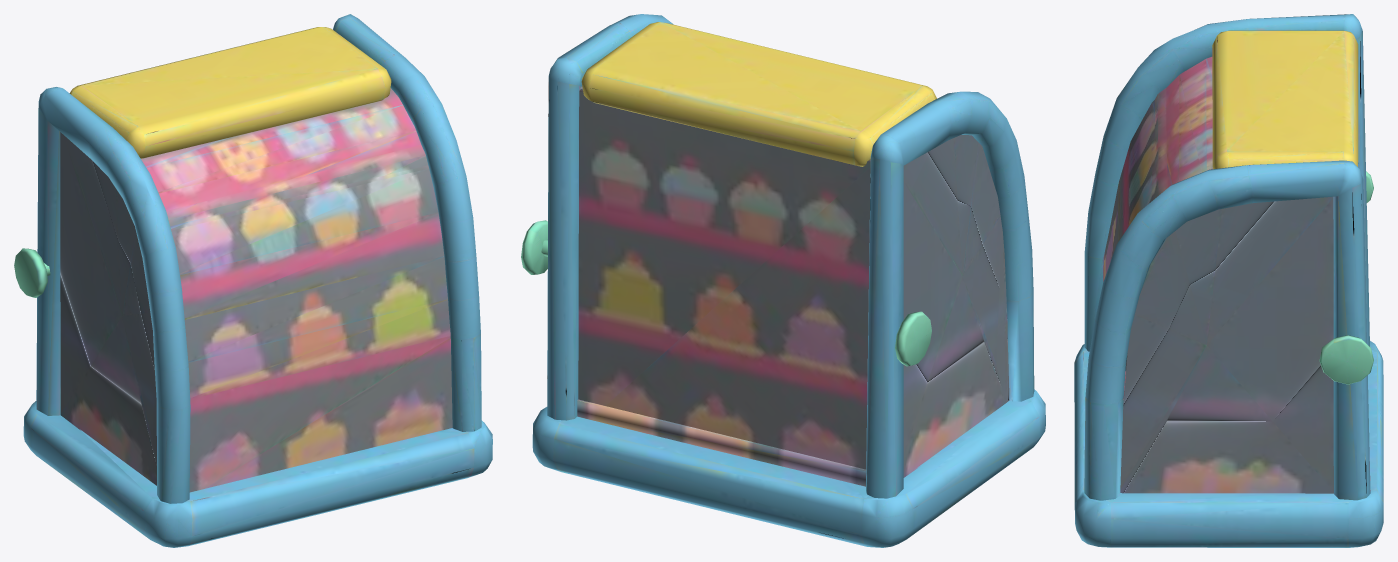
File: cake-display.glb
3 renders of one model, left to right at view 1: azimuth 30°, elevation 25°; view 2: azimuth 150°, elevation 25°; view 3: azimuth 270°, elevation 25°, orthographic. The views are drawn at different scales.
Visible parts, largest first — view 1: geometry_0; view 2: geometry_0; view 3: geometry_0.
Boxes of the visible parts, x1,y1,x2,y2 form: geometry_0: (14, 14, 492, 547); geometry_0: (521, 14, 1045, 547); geometry_0: (1074, 14, 1383, 547).
Size of the model in its own units: 1 by 1 by 0.7406.
Materials: 1 (1 with a texture image).
